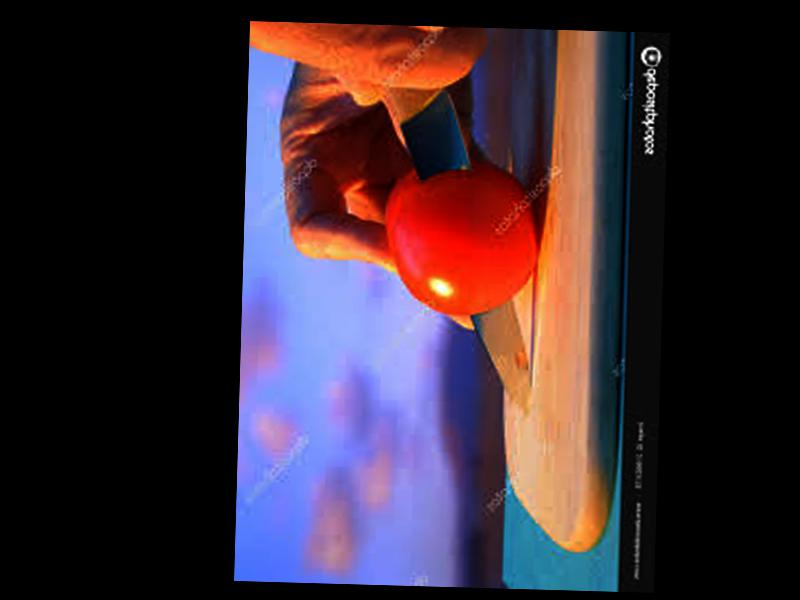Tomato: (385, 157, 543, 319)
